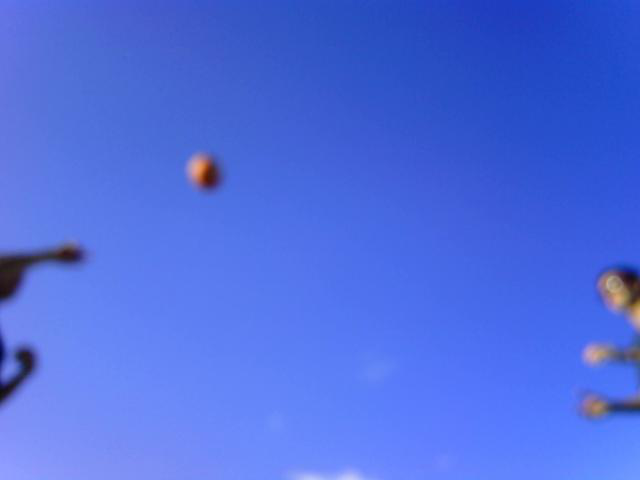football: (182, 151, 227, 194)
